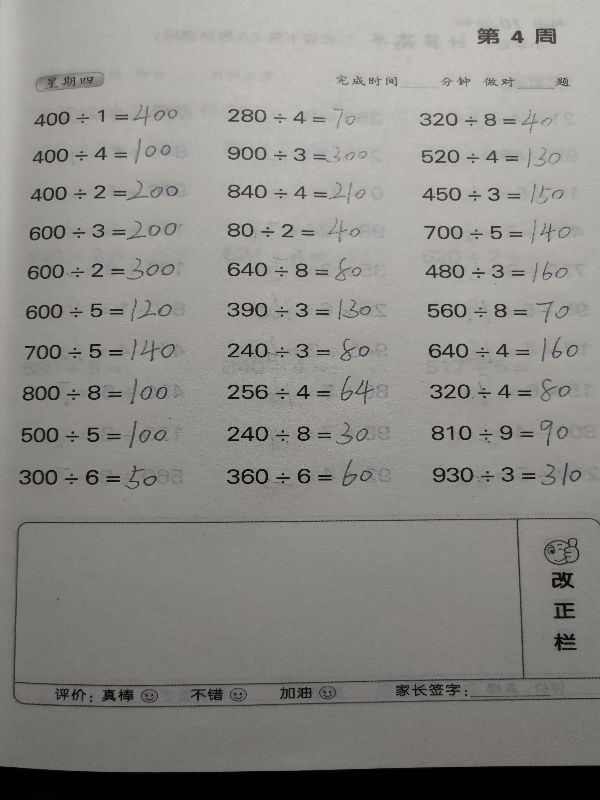equation: (17, 418, 175, 454), (224, 374, 378, 409), (223, 459, 376, 494), (28, 173, 182, 205), (428, 416, 572, 450), (19, 376, 172, 408), (223, 334, 375, 366), (424, 336, 582, 366), (21, 334, 178, 364), (428, 461, 584, 491), (16, 462, 161, 494), (22, 295, 176, 325), (218, 101, 362, 133), (225, 418, 373, 449), (427, 375, 575, 406), (24, 254, 178, 283), (223, 251, 371, 281), (30, 101, 185, 129), (424, 298, 573, 327), (29, 136, 174, 165), (25, 218, 180, 245), (223, 216, 370, 244), (224, 296, 375, 323), (416, 106, 566, 133), (224, 139, 374, 165), (420, 221, 574, 246), (224, 178, 372, 203), (420, 182, 573, 206), (421, 260, 569, 284), (419, 145, 565, 168)
